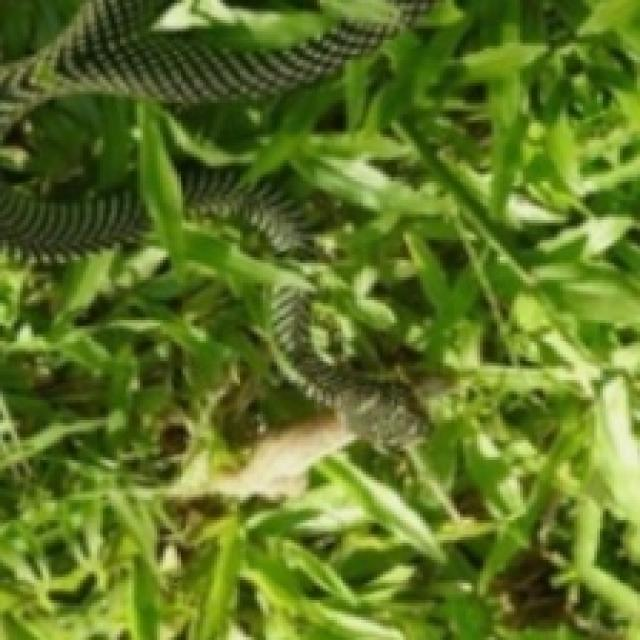paradise tree snake: (0, 0, 429, 149), (270, 281, 446, 446), (0, 170, 149, 261), (181, 170, 304, 251)
